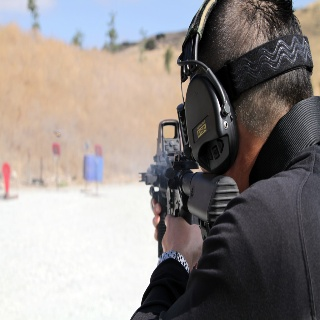rifle: (139, 115, 241, 243)
